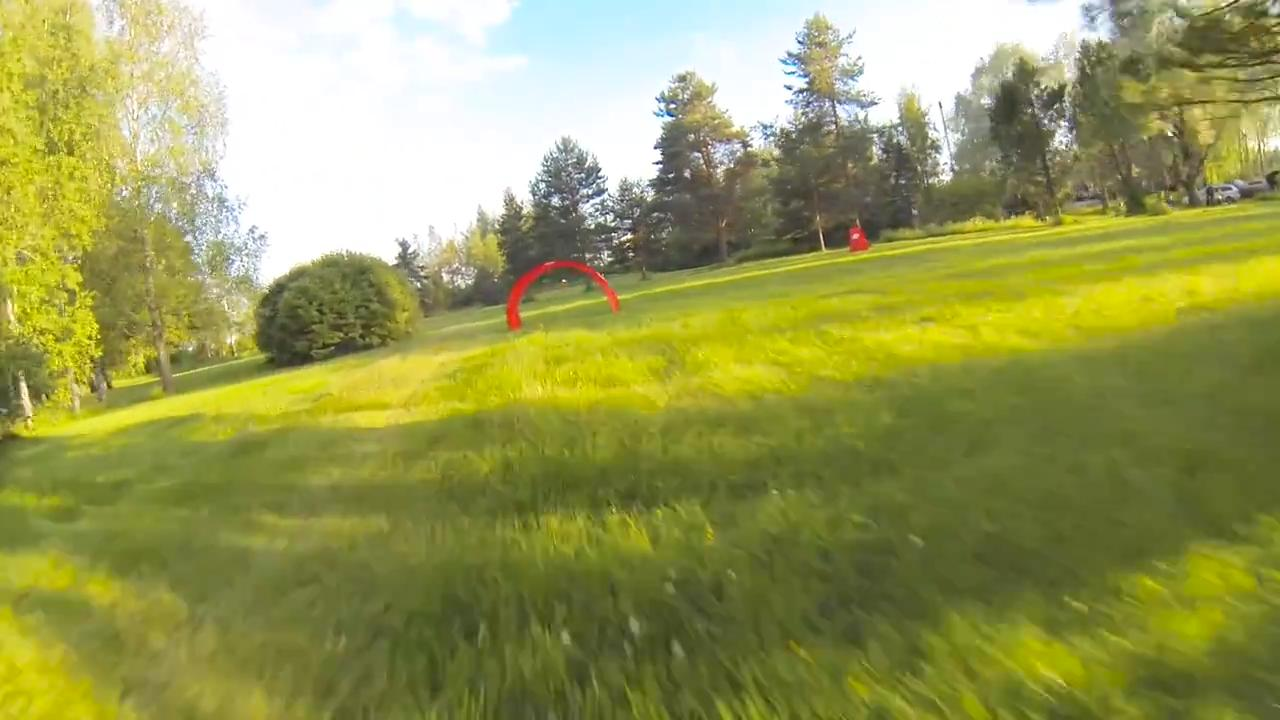gate: (502, 258, 625, 330)
